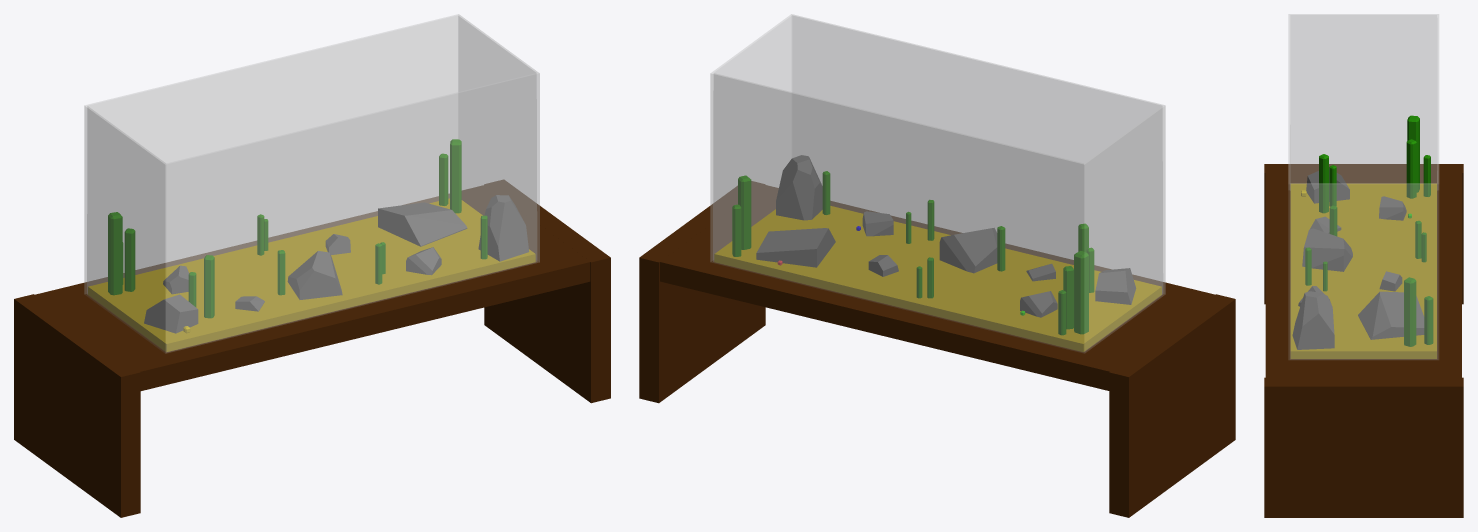
File: FishTank_full.glb
The picture shows the model from 3 angles, left to right: view 1: azimuth 30°, elevation 25°; view 2: azimuth 150°, elevation 25°; view 3: azimuth 270°, elevation 25°; orthographic projection. The views are drawn at different scales.
Visible parts, largest first — view 1: FishTank, Table, Sand, Foot1.001, Foot1, Rock.001, Rock.007, Rock, Rock.002, Grass.004, Grass.007, Grass.003 (+2 smaller); view 2: FishTank, Table, Sand, Foot1.001, Foot1, Rock.007, Rock.001, Rock, Rock.002, Grass.004, Grass.007, Rock.003 (+1 smaller); view 3: FishTank, Foot1, Sand, Table, Rock.007, Rock.001, Foot1.001, Rock, Grass.007, Rock.002, Grass.003, Grass.012 (+10 smaller).
Boxes of the visible parts, <box> form: FishTank: <box>84,14,539,353</box>; Table: <box>35,185,590,390</box>; Sand: <box>88,198,535,351</box>; Foot1.001: <box>14,294,140,517</box>; Foot1: <box>484,180,610,403</box>; Rock.001: <box>378,202,467,246</box>; Rock.007: <box>478,195,528,261</box>; Rock: <box>287,251,342,299</box>; Rock.002: <box>144,294,198,333</box>; Grass.004: <box>108,212,122,295</box>; Grass.007: <box>450,139,461,213</box>; Grass.003: <box>124,228,135,291</box>; FishTank: <box>710,14,1165,353</box>; Table: <box>660,185,1214,390</box>; Sand: <box>714,206,1161,351</box>; Foot1.001: <box>1109,294,1235,517</box>; Foot1: <box>639,181,765,403</box>; Rock.007: <box>776,155,822,220</box>; Rock.001: <box>756,228,835,267</box>; Rock: <box>939,228,997,273</box>; Rock.002: <box>1095,268,1135,304</box>; Grass.004: <box>1074,251,1088,334</box>; Grass.007: <box>738,175,751,249</box>; Rock.003: <box>1020,291,1057,317</box>; FishTank: <box>1288,14,1438,359</box>; Foot1: <box>1264,377,1463,517</box>; Sand: <box>1290,183,1436,358</box>; Table: <box>1265,173,1461,377</box>; Rock.007: <box>1292,291,1334,349</box>; Rock.001: <box>1358,291,1424,339</box>; Foot1.001: <box>1264,164,1463,304</box>; Rock: <box>1302,228,1352,271</box>; Grass.007: <box>1404,277,1416,346</box>; Rock.002: <box>1306,168,1349,203</box>; Grass.003: <box>1406,139,1416,198</box>; Grass.012: <box>1319,154,1328,213</box>.
Size of the model in its own units: 1.05 by 0.6736 by 0.3954.
